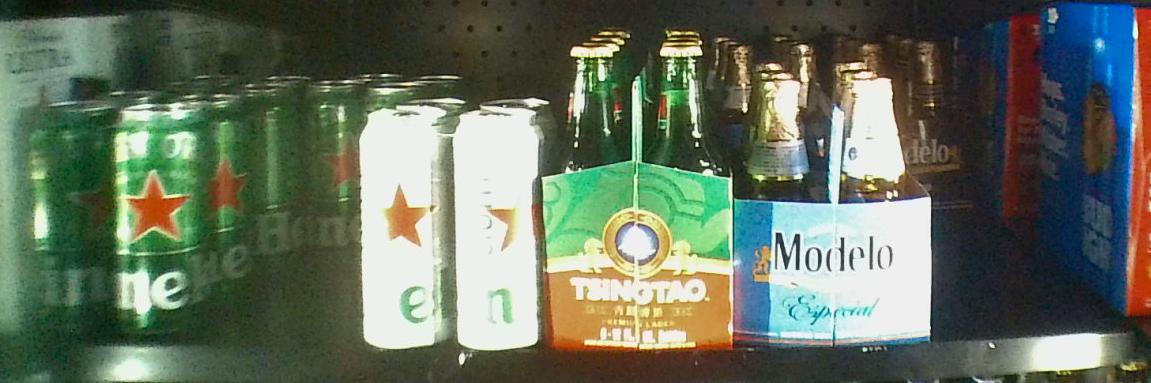bottle: (546, 38, 738, 351), (738, 76, 935, 348), (358, 109, 541, 356), (27, 102, 206, 329), (899, 41, 962, 205), (313, 87, 356, 263)
